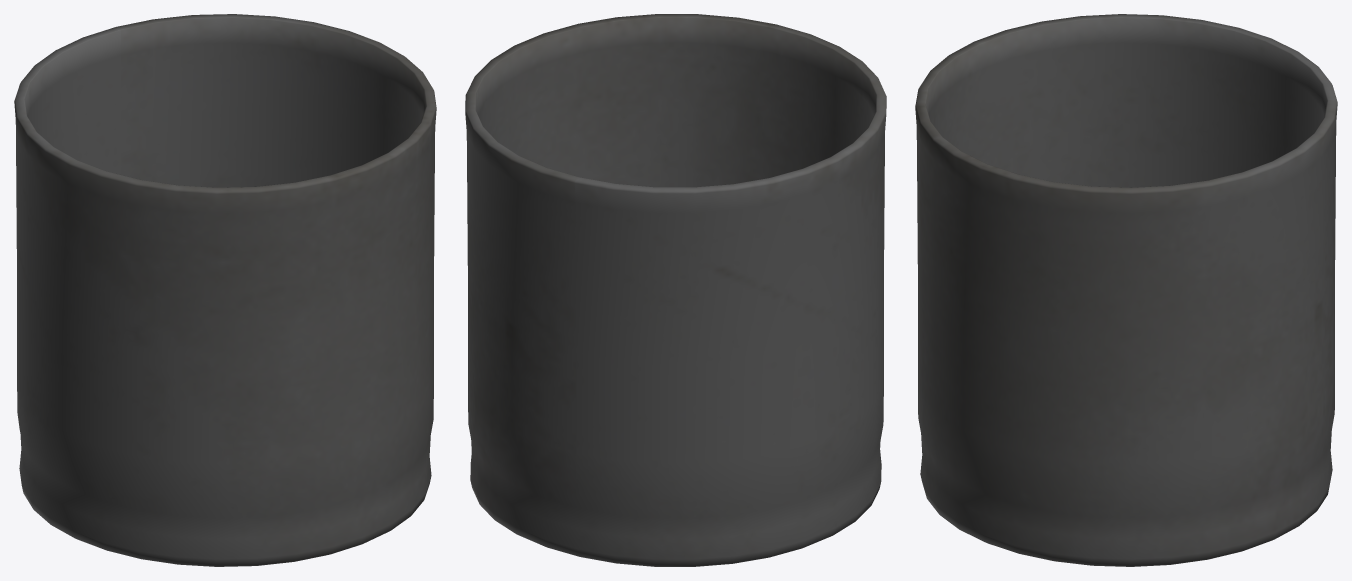
File: Prop_Whiskey_Glass_x1.fbx
3 renders of one model, left to right at view 1: azimuth 30°, elevation 25°; view 2: azimuth 150°, elevation 25°; view 3: azimuth 270°, elevation 25°, orthographic.
Visible parts, largest first — view 1: Prop_Glass; view 2: Prop_Glass; view 3: Prop_Glass.
Boxes of the visible parts, x1,y1,x2,y2 form: Prop_Glass: (14, 14, 436, 566); Prop_Glass: (465, 14, 886, 566); Prop_Glass: (915, 14, 1337, 566).
Bounding box in the file's own units: 4.5 × 4.46 × 4.5.
